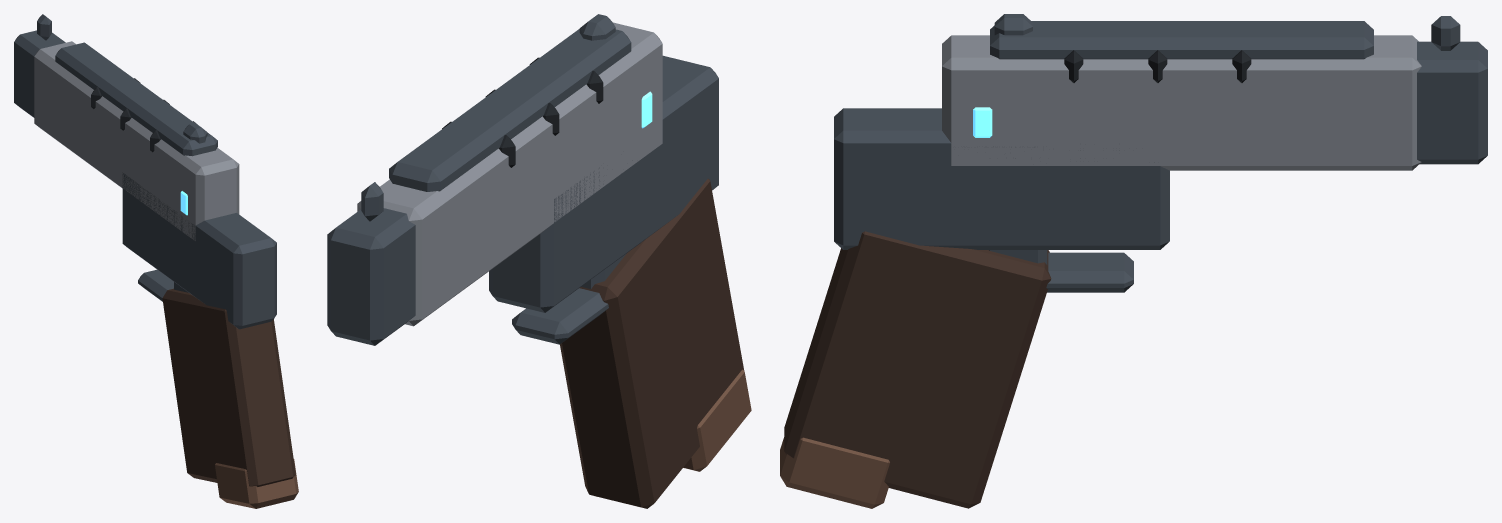
File: mdl_weapon_pistol_v1.glb
The picture shows the model from 3 angles, left to right: view 1: azimuth 30°, elevation 25°; view 2: azimuth 150°, elevation 25°; view 3: azimuth 270°, elevation 25°; orthographic projection. The views are drawn at different scales.
Parts seen in each view (by area): view 1: GEO_Weapon_Pistol; view 2: GEO_Weapon_Pistol; view 3: GEO_Weapon_Pistol.
Boxes of the visible parts, x1=… form: GEO_Weapon_Pistol: x1=14, y1=14, x2=298, y2=508; GEO_Weapon_Pistol: x1=327, y1=14, x2=751, y2=508; GEO_Weapon_Pistol: x1=780, y1=14, x2=1487, y2=508.
Size of the model in its own units: 0.034 by 0.2209 by 0.2949.
